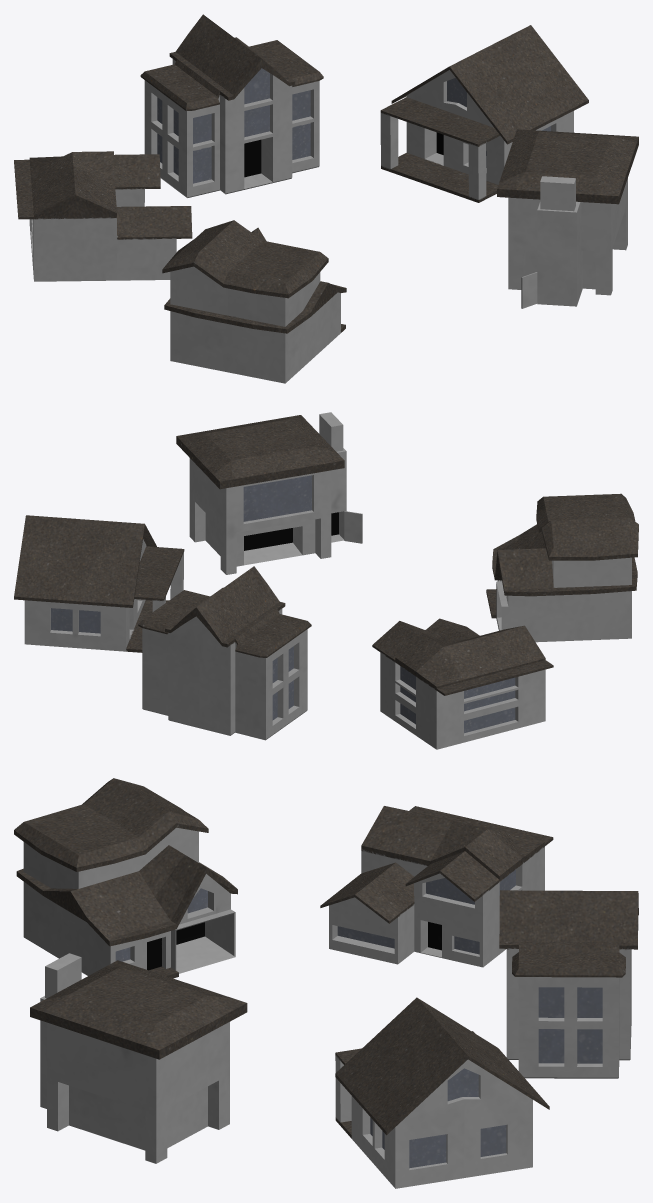
Rendered from houses.glb.
3 renders of one model, top to bottom at view 1: azimuth 30°, elevation 25°; view 2: azimuth 150°, elevation 25°; view 3: azimuth 270°, elevation 25°, orthographic. The views are drawn at different scales.
Visible parts, largest first — view 1: houses; view 2: houses; view 3: houses.
Boxes of the visible parts, box(x1,y1,x2,y2) form: houses: box(14, 14, 638, 383); houses: box(14, 412, 638, 749); houses: box(14, 778, 638, 1188).
Size of the model in its own units: 37.09 by 8.32 by 31.14.
1 material, 1 textured.
